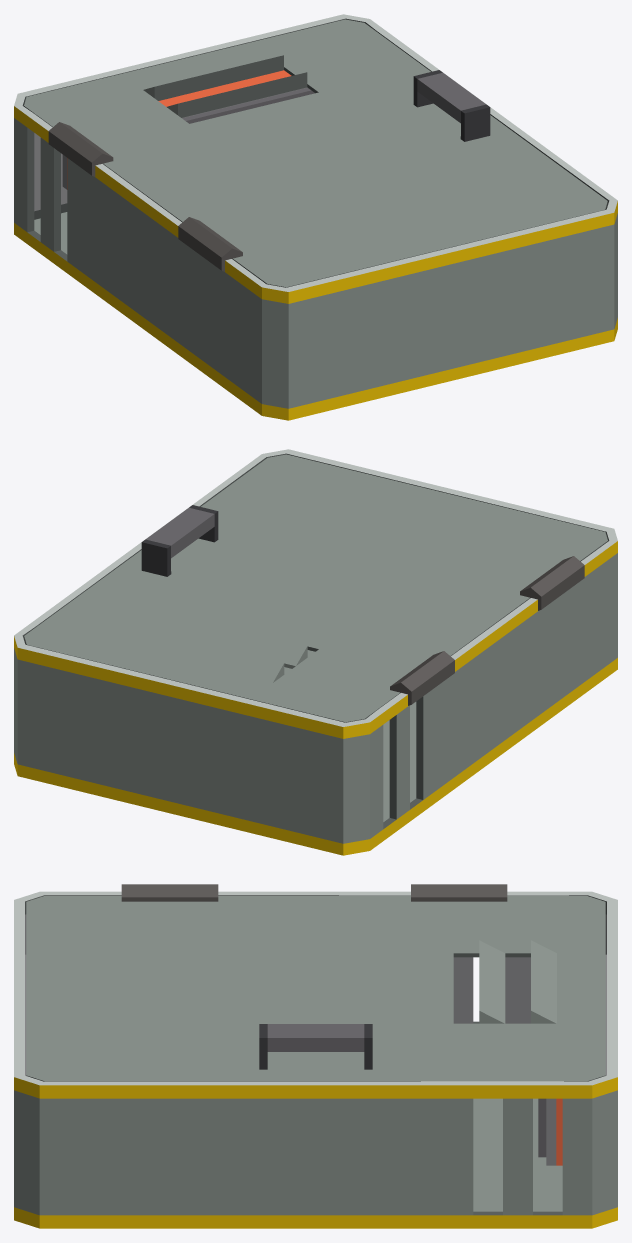
The model's file is Cable_Box.glb.
3 views of the same model, one above another, from view 1: azimuth 30°, elevation 25°; view 2: azimuth 150°, elevation 25°; view 3: azimuth 270°, elevation 25° (orthographic). The views are drawn at different scales.
Visible parts, largest first — view 1: Metalcase_cap, MetalCase_Base; view 2: Metalcase_cap, MetalCase_Base; view 3: Metalcase_cap, MetalCase_Base.
Part boxes in pixels (x1=…): Metalcase_cap: x1=24, y1=19, x2=607, y2=287; MetalCase_Base: x1=14, y1=14, x2=617, y2=420; Metalcase_cap: x1=24, y1=454, x2=607, y2=722; MetalCase_Base: x1=14, y1=449, x2=617, y2=855; Metalcase_cap: x1=26, y1=884, x2=605, y2=1081; MetalCase_Base: x1=14, y1=891, x2=617, y2=1228.
Size of what is drawn, in the model's own units: 1.28 by 0.5319 by 1.66.
Materials: 1 (1 with a texture image).
